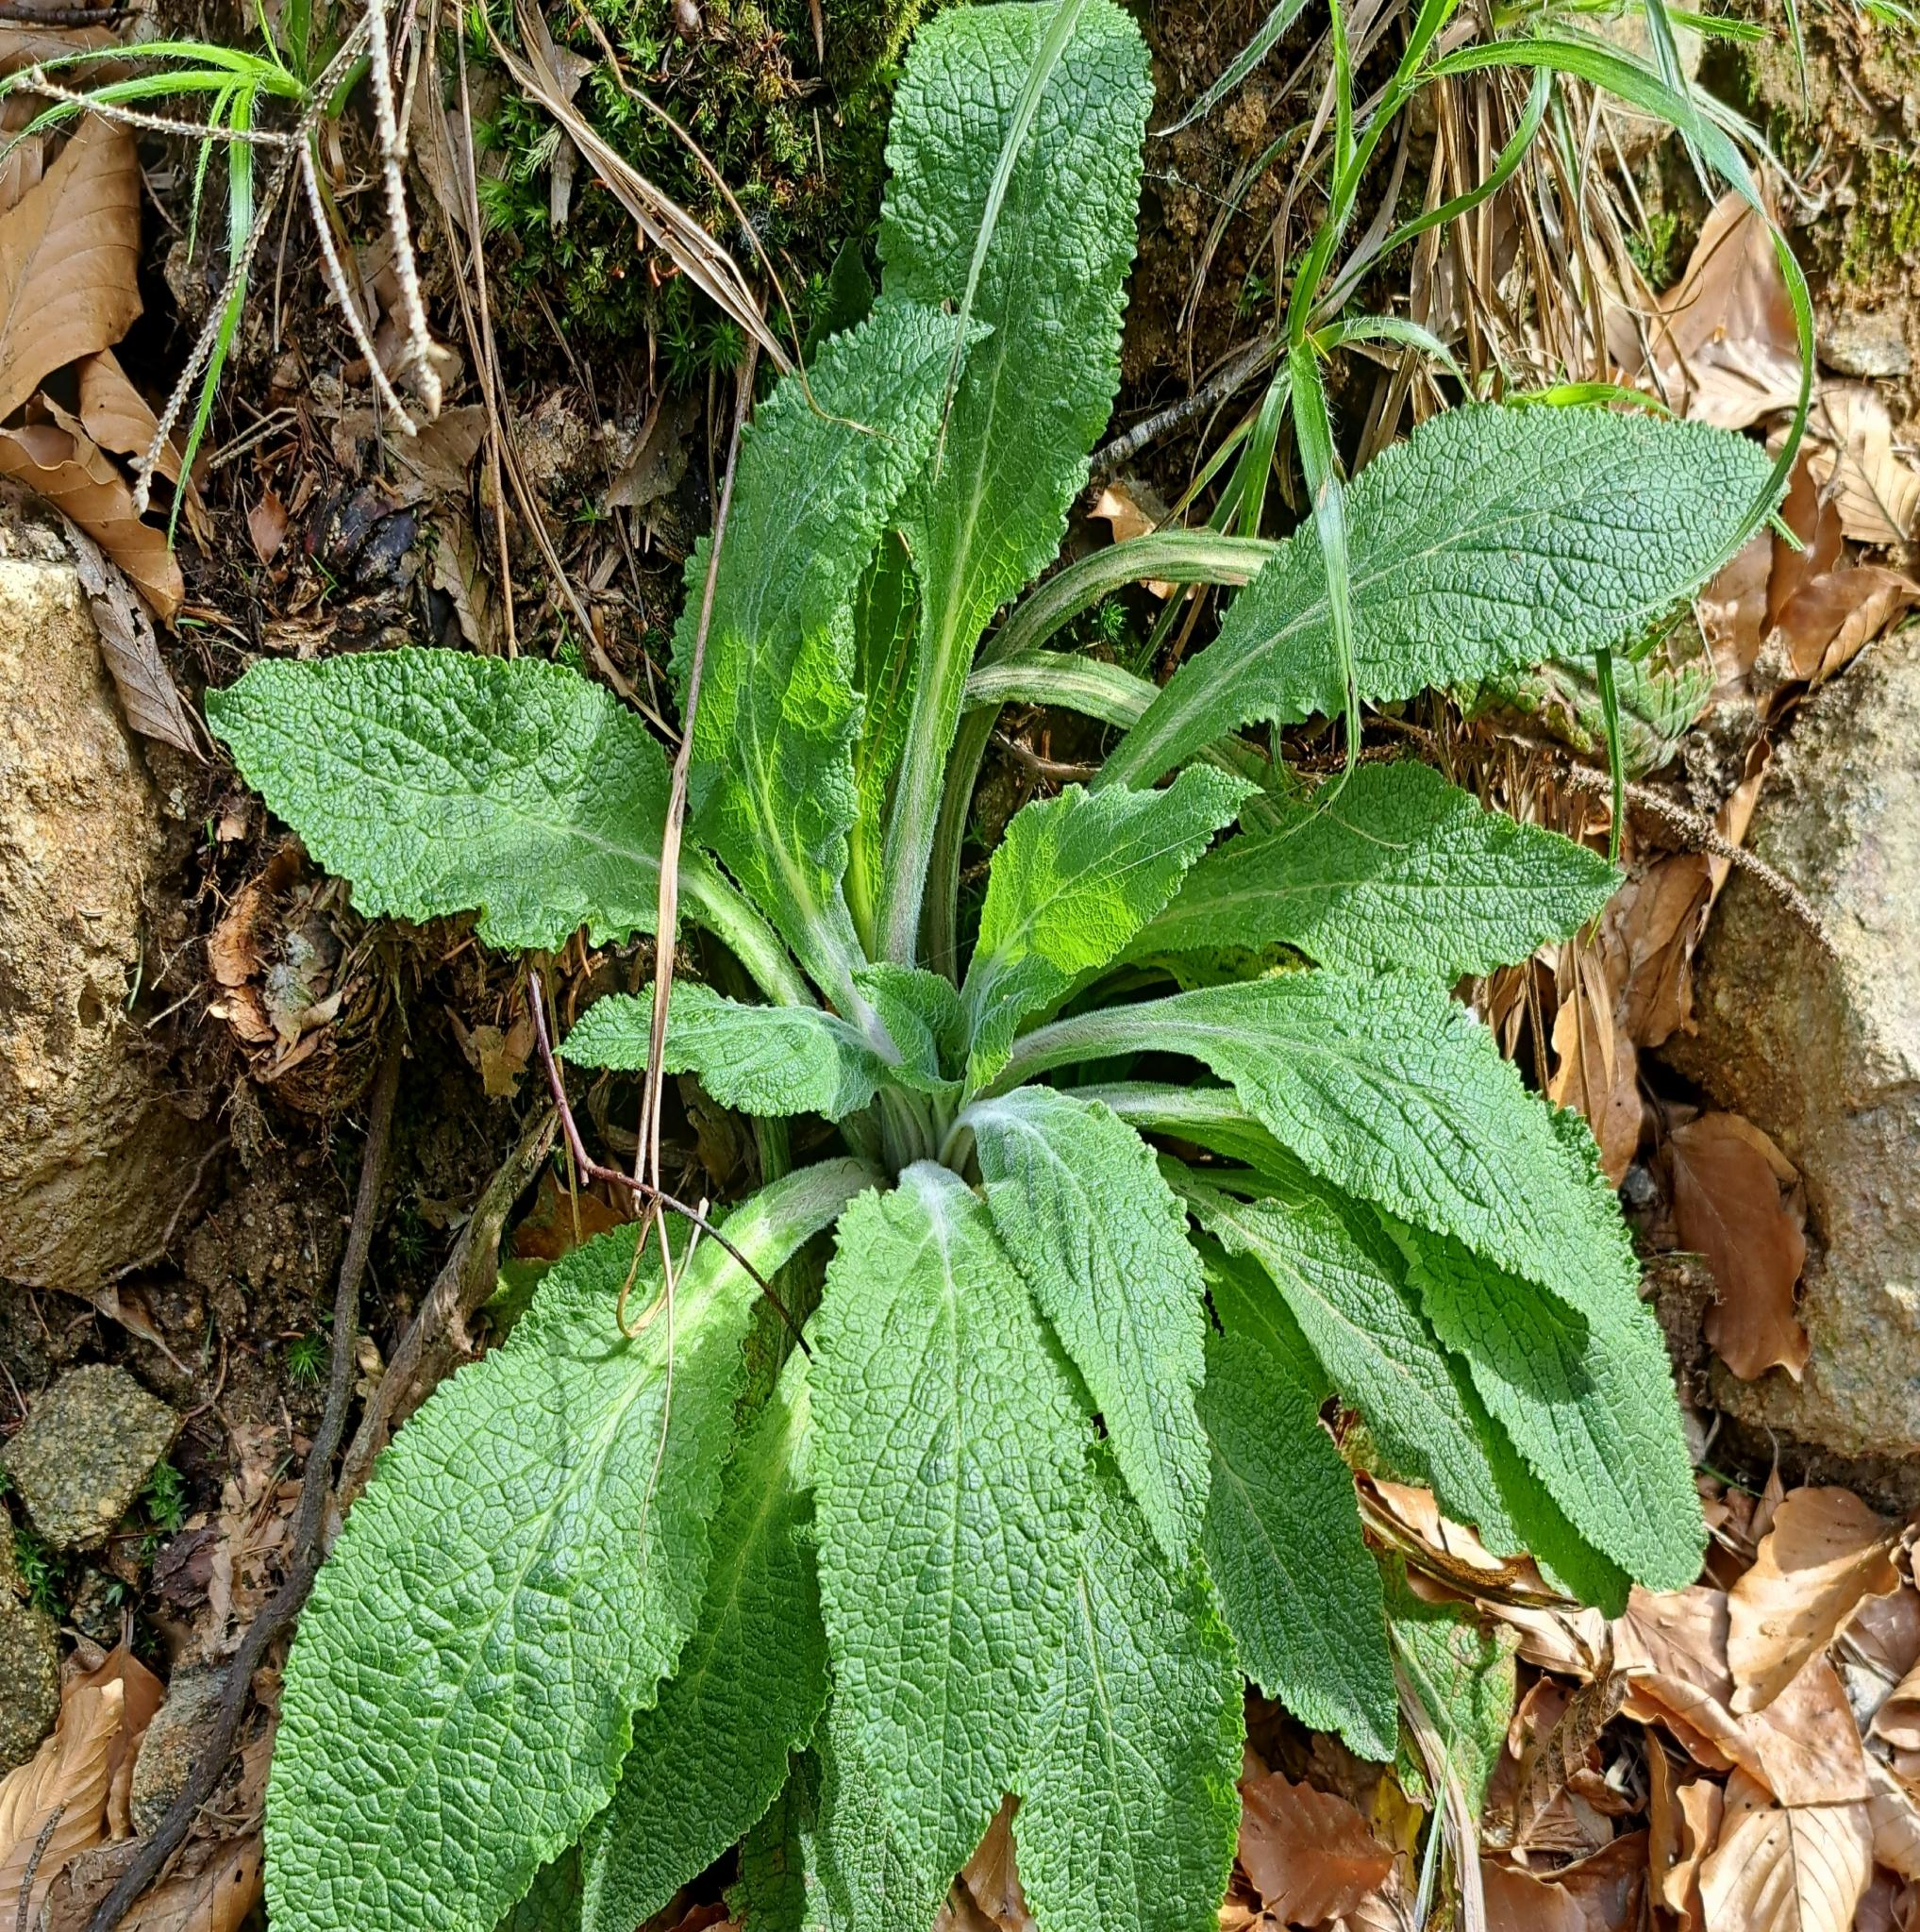Digitalis L: (197, 7, 1767, 1932)
